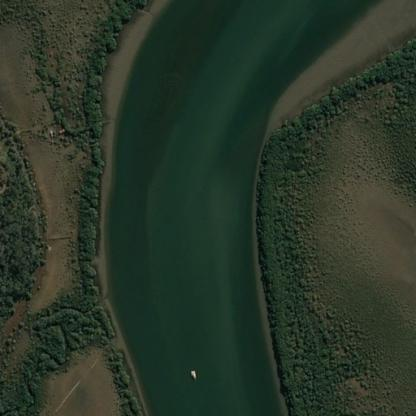ship: (23, 370, 29, 379)
